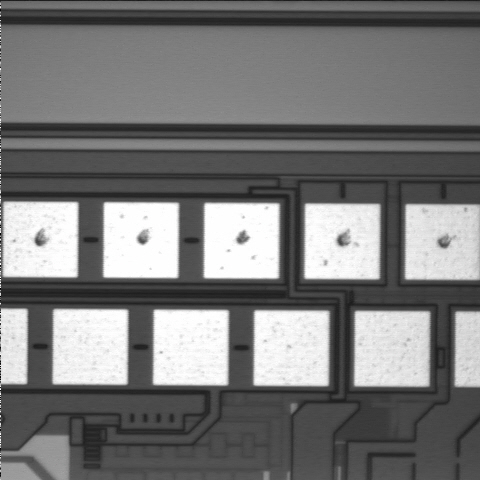pad: (103, 202, 179, 278), (204, 203, 280, 279), (3, 202, 78, 278), (304, 204, 380, 279), (53, 309, 128, 385), (153, 310, 229, 385), (254, 310, 329, 386), (354, 311, 430, 386)
